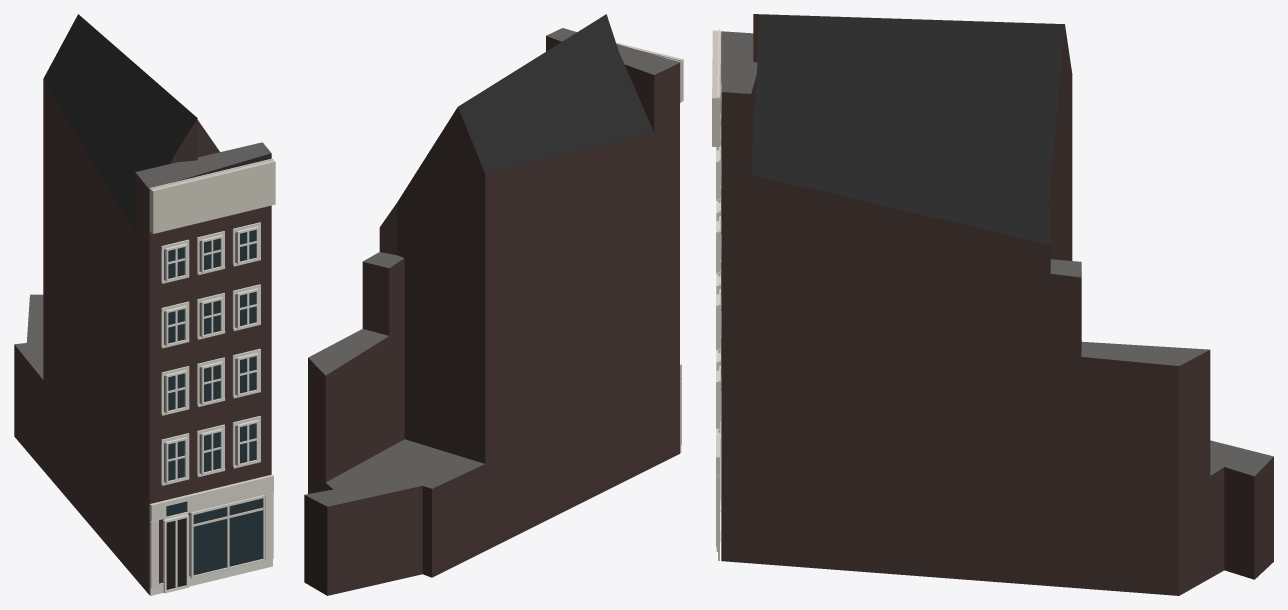
3 renders of one model, left to right at view 1: azimuth 30°, elevation 25°; view 2: azimuth 150°, elevation 25°; view 3: azimuth 270°, elevation 25°, orthographic. The views are drawn at different scales.
Visible parts, largest first — view 1: spec-0363100012177933; view 2: spec-0363100012177933; view 3: spec-0363100012177933.
Part boxes in pixels (bbox=[...]): spec-0363100012177933: bbox=[14, 14, 275, 595]; spec-0363100012177933: bbox=[304, 14, 683, 595]; spec-0363100012177933: bbox=[712, 14, 1273, 595].
Bounding box in the file's own units: 7.23 × 16.86 × 16.71.
